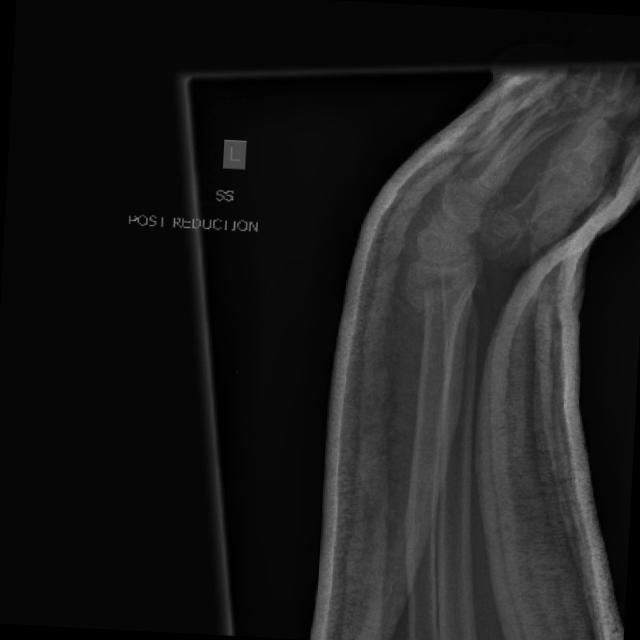wrist positive: (382, 261, 500, 337)
